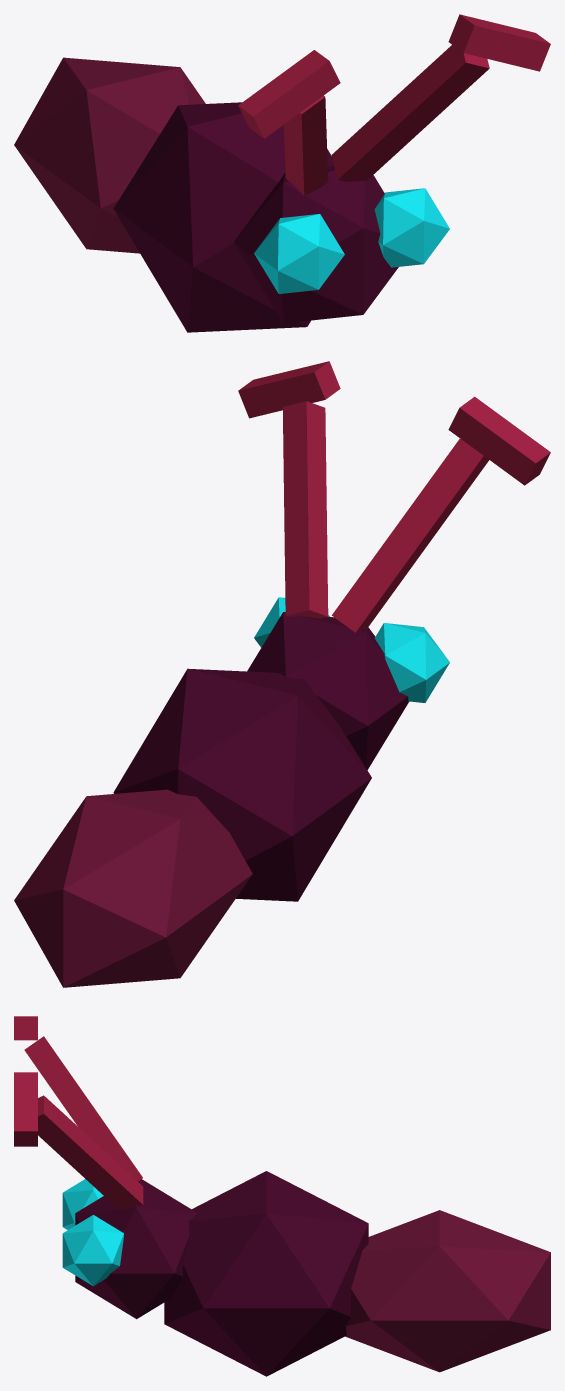
The model's file is moth.glb.
3 renders of one model, top to bottom at view 1: azimuth 30°, elevation 25°; view 2: azimuth 150°, elevation 25°; view 3: azimuth 270°, elevation 25°, orthographic. The views are drawn at different scales.
Visible parts, largest first — view 1: Moth; view 2: Moth; view 3: Moth.
Part boxes in pixels (box(x1,y1,x2,y2)): Moth: box(14, 14, 550, 332); Moth: box(14, 361, 550, 987); Moth: box(14, 1016, 550, 1376).
Size of the model in its own units: 0.5661 by 0.7136 by 1.12.
